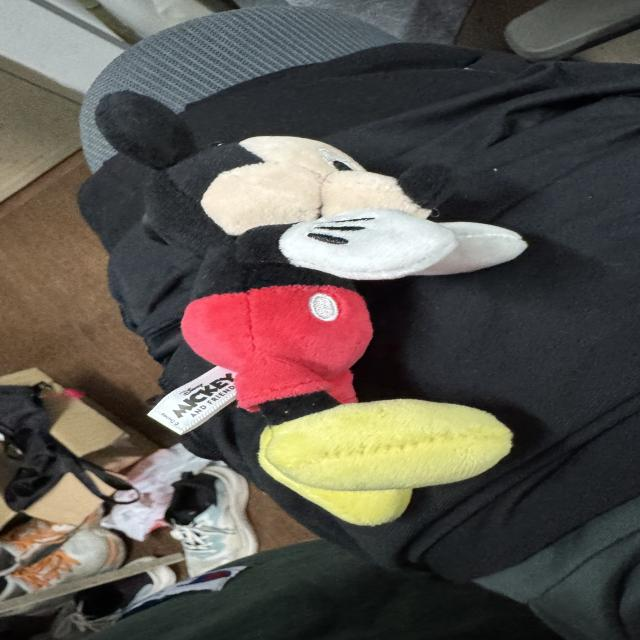mickey: (96, 92, 525, 525)
